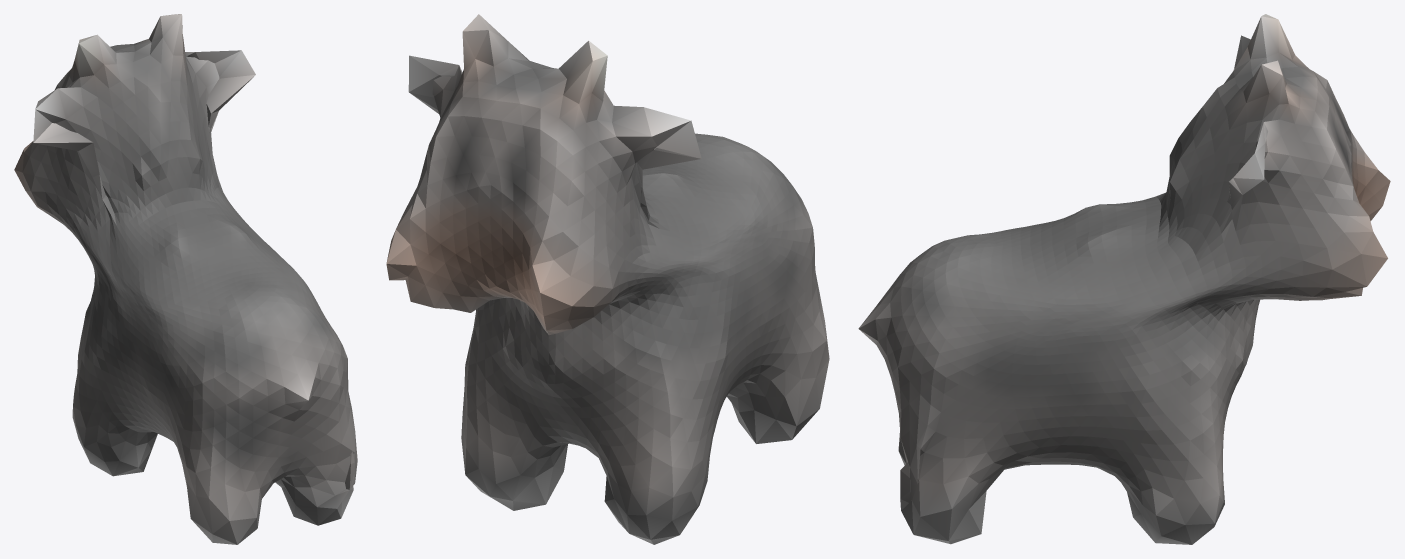
Rendered from colored_mesh_iter_0750.obj.
3 renders of one model, left to right at view 1: azimuth 30°, elevation 25°; view 2: azimuth 150°, elevation 25°; view 3: azimuth 270°, elevation 25°, orthographic. The views are drawn at different scales.
Bounding box in the file's own units: 1.12 × 1.98 × 1.99.
